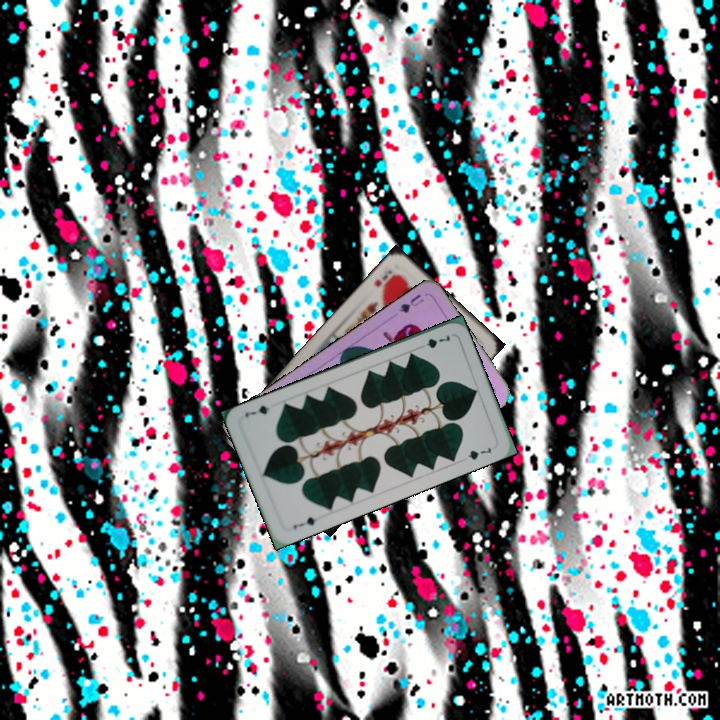G7: (414, 331, 452, 351), (289, 513, 318, 532)
GU: (395, 290, 427, 316)
HK: (370, 266, 398, 294)
